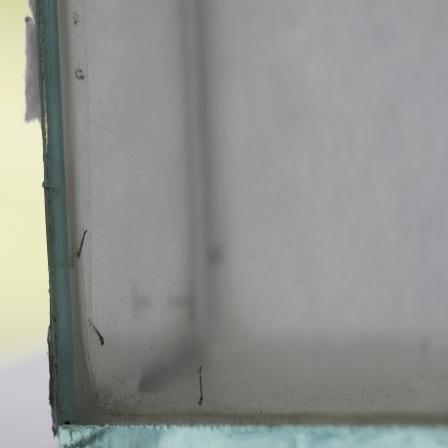Jentik-Nyamuk: (86, 317, 107, 351), (192, 361, 207, 408), (73, 226, 89, 263)
